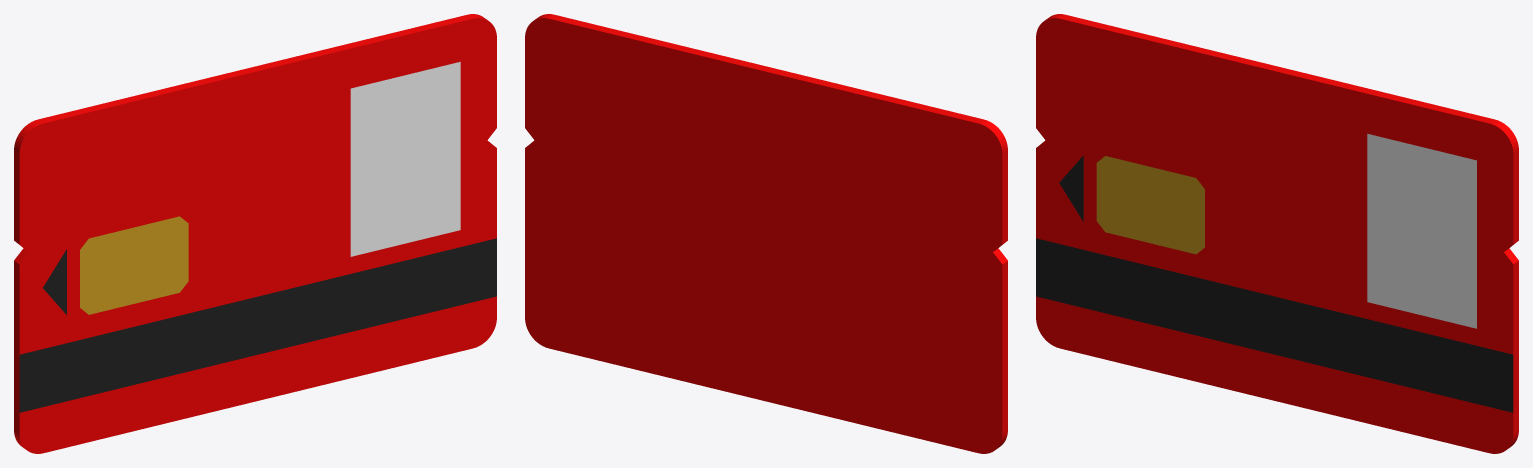
The model's file is Proto_Card_ID_Security_Data_01.fbx.
3 views of the same model, side by side, from view 1: azimuth 30°, elevation 25°; view 2: azimuth 150°, elevation 25°; view 3: azimuth 330°, elevation 25° (orthographic).
Visible parts, largest first — view 1: Proto_Card_ID_Security_Data_01; view 2: Proto_Card_ID_Security_Data_01; view 3: Proto_Card_ID_Security_Data_01.
Boxes of the visible parts, x1,y1,x2,y2 form: Proto_Card_ID_Security_Data_01: (14, 14, 496, 453); Proto_Card_ID_Security_Data_01: (525, 14, 1007, 453); Proto_Card_ID_Security_Data_01: (1036, 14, 1518, 453).
Size of the model in its own units: 0.25 by 0.165 by 0.005.
